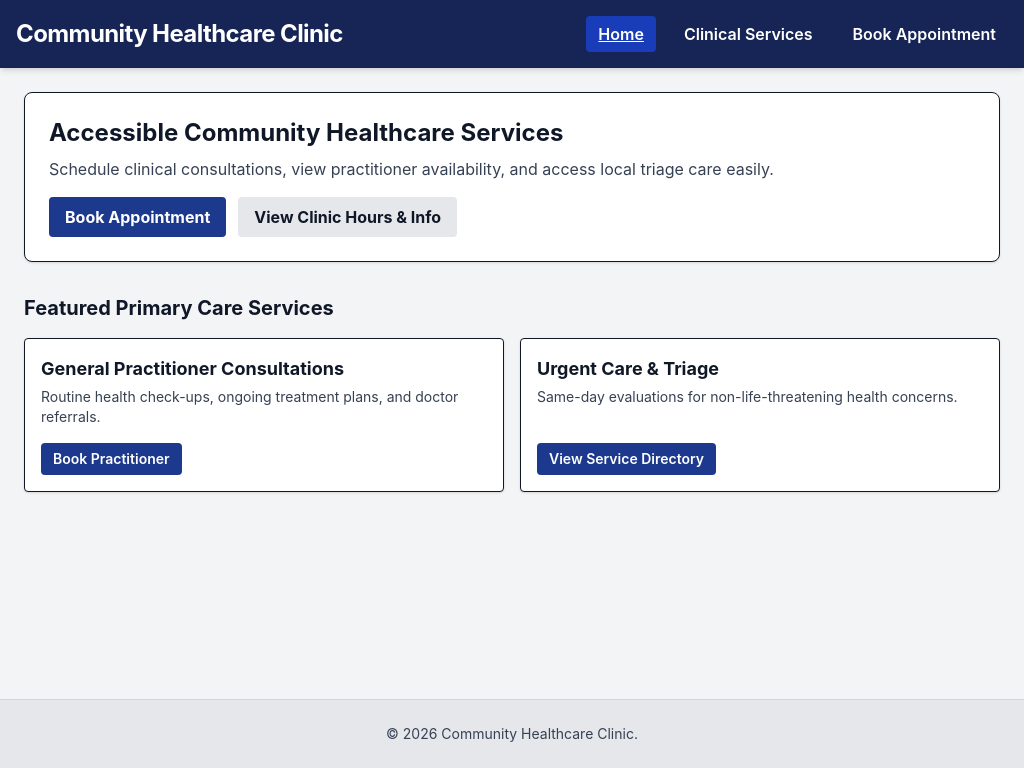
Scenario: App SPA Navigation › switches tabs and updates aria-current page attribute
The image size is (1024, 768).
What coordinates should you click on to do the following:
click the button "Clinical Services"
I would click on:
 (748, 34)
Its box is [672,16,824,52].
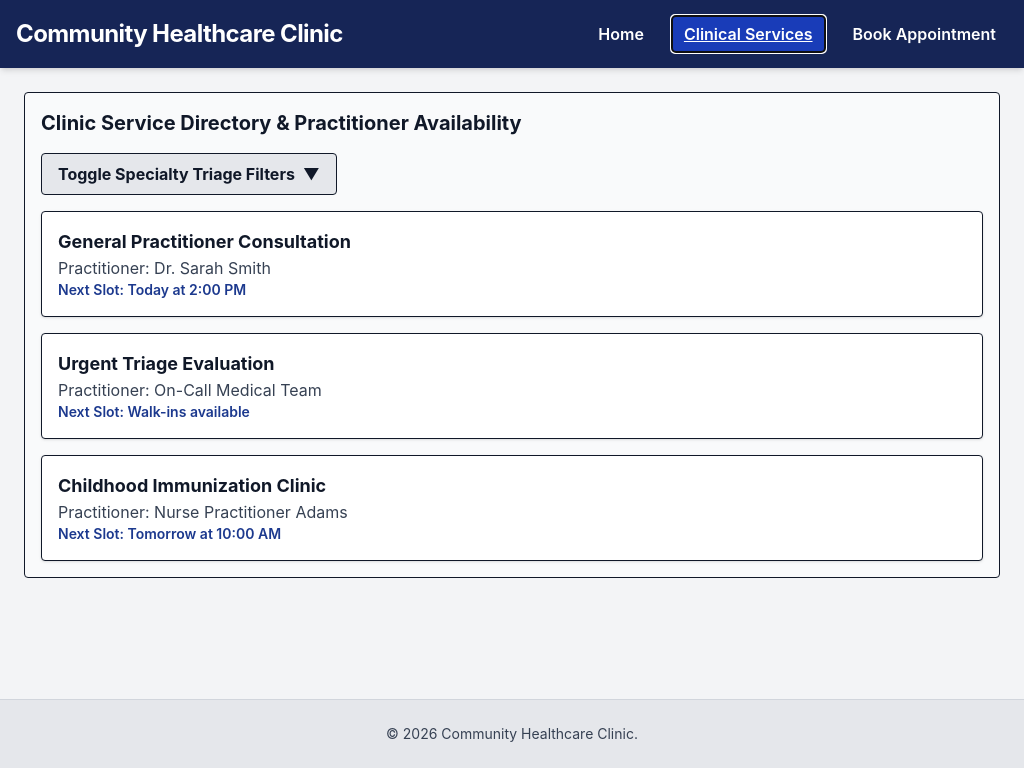
Check: the heading "Clinic Service Directory & Practitioner Availability" is shown, box [41,111,522,135]
